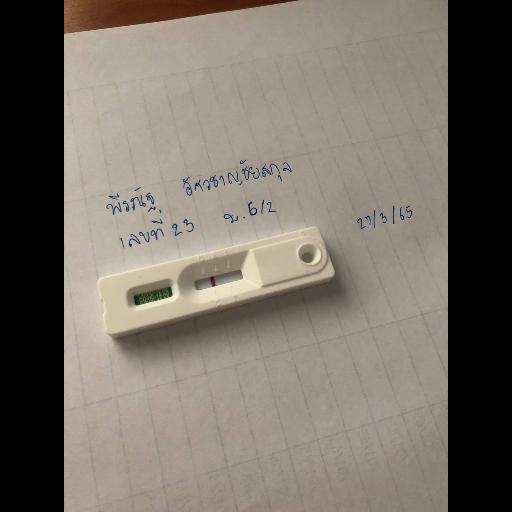Neg: (94, 224, 337, 336)
